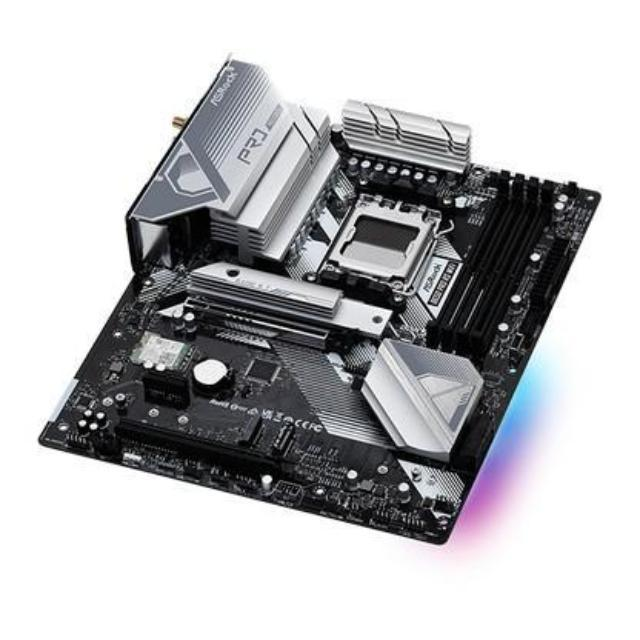Mainboard: (30, 49, 605, 552)
